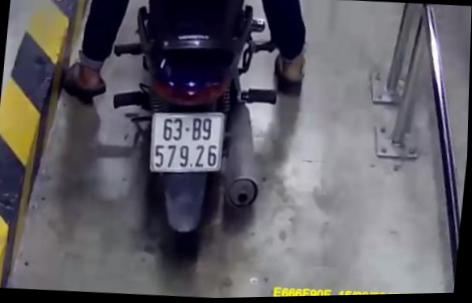LP: (145, 107, 228, 179)
